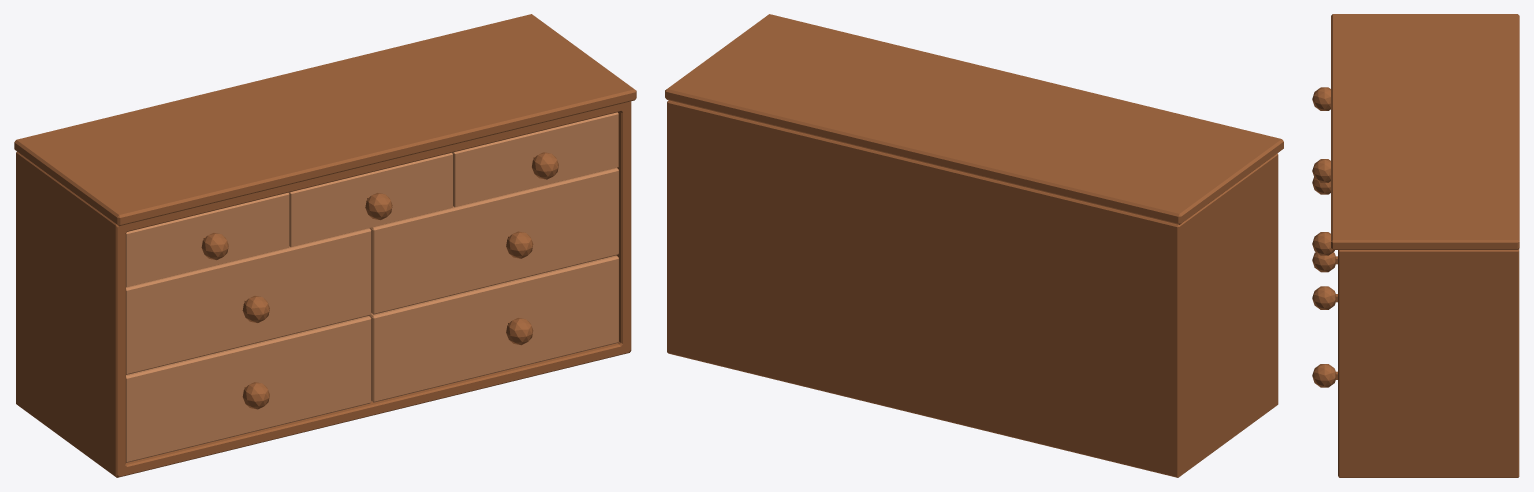
The model's file is Drawer A.glb.
The picture shows the model from 3 angles, left to right: view 1: azimuth 30°, elevation 25°; view 2: azimuth 150°, elevation 25°; view 3: azimuth 270°, elevation 25°; orthographic projection. The views are drawn at different scales.
Visible parts, largest first — view 1: Drawer A; view 2: Drawer A; view 3: Drawer A.
Part boxes in pixels (box(x1,y1,x2,y2)): Drawer A: box(14, 14, 636, 477); Drawer A: box(665, 14, 1283, 477); Drawer A: box(1312, 14, 1519, 477).
Bounding box in the file's own units: 773 × 378 × 298.
